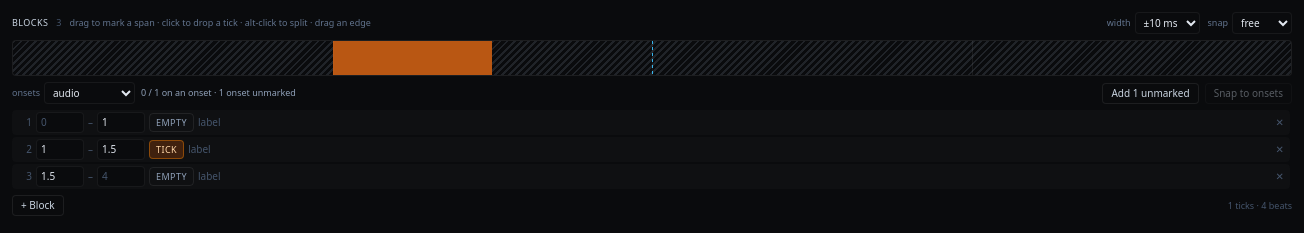
BoundarySegmentEditor › switches the comparison to another layer, and turns it off
The image size is (1304, 233).
Expected: the text "0 / 1 on an onset · 1 onset unmarked" is shown, x1=141 y1=86 x2=296 y2=100
Select "Drum onsets" in the dropdown labelled "onsets" at (90, 93), box x1=44 y1=82 x2=135 y2=104
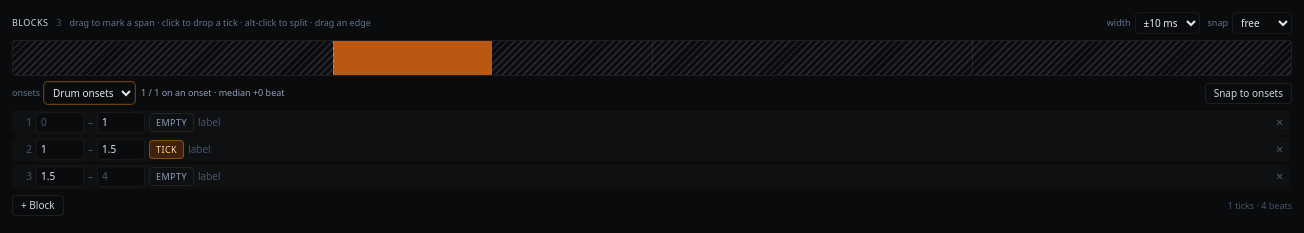
Now the text "1 / 1 on an onset · median +0 beat" is shown, box x1=141 y1=86 x2=284 y2=100
Select "off" in the dropdown labelled "onsets" at (90, 93), box x1=44 y1=82 x2=135 y2=104
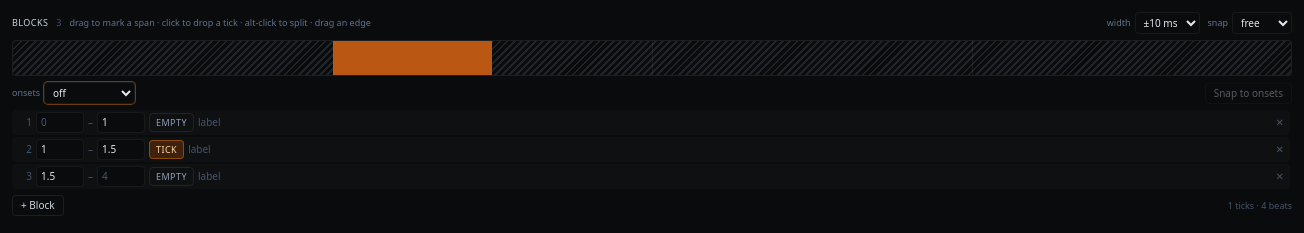
Expected: the button "Snap to onsets" is shown, x1=1205 y1=82 x2=1292 y2=104
Now the text "on an onset" is gone
